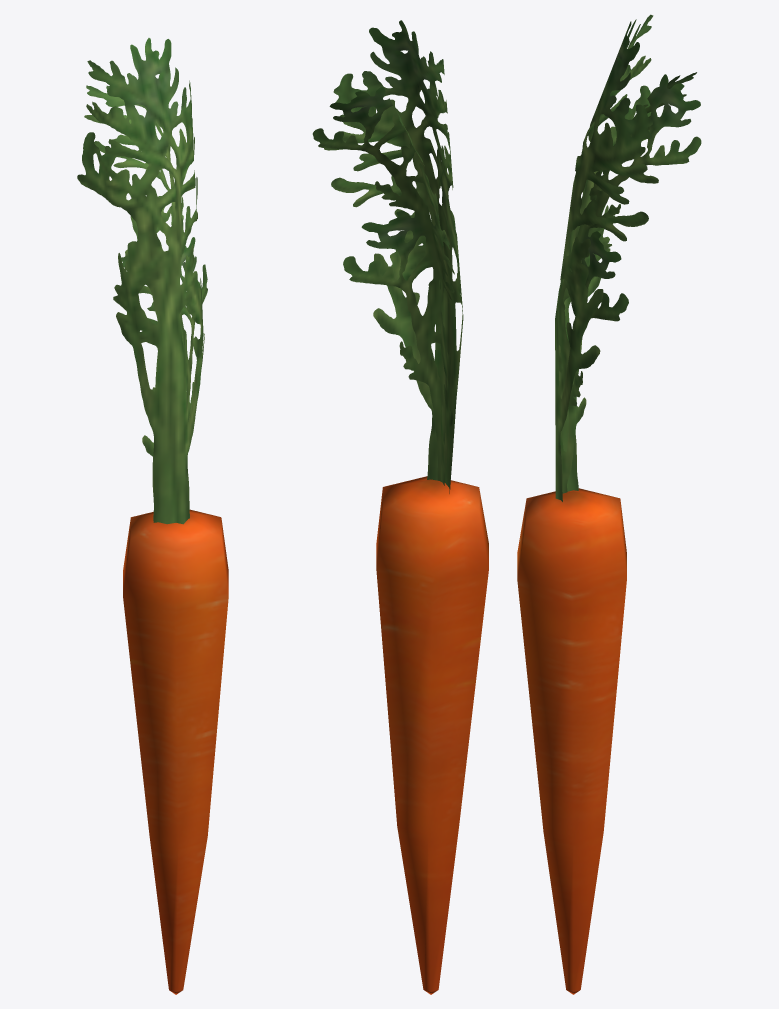
The model's file is carrot.fbx.
The picture shows the model from 3 angles, left to right: view 1: azimuth 30°, elevation 25°; view 2: azimuth 150°, elevation 25°; view 3: azimuth 270°, elevation 25°; orthographic projection. The views are drawn at different scales.
Visible parts, largest first — view 1: carrot_Mesh_002, carrot_Mesh_001; view 2: carrot_Mesh_002, carrot_Mesh_001; view 3: carrot_Mesh_001, carrot_Mesh_002.
Part boxes in pixels (x1,y1,x2,y2): carrot_Mesh_002: [77, 38, 227, 994]; carrot_Mesh_001: [84, 75, 228, 994]; carrot_Mesh_002: [324, 20, 488, 994]; carrot_Mesh_001: [312, 87, 477, 994]; carrot_Mesh_001: [517, 72, 701, 994]; carrot_Mesh_002: [521, 14, 658, 566].
Size of the model in its own units: 3.87 by 24.48 by 5.59.
